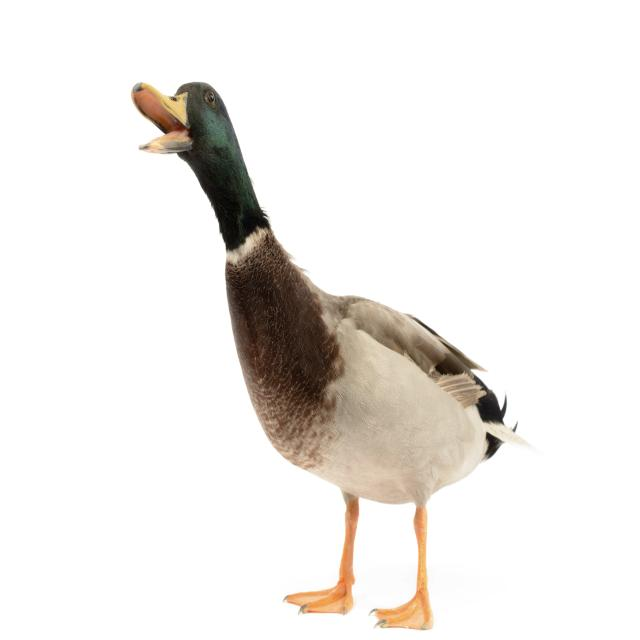duck: (131, 82, 527, 629)
